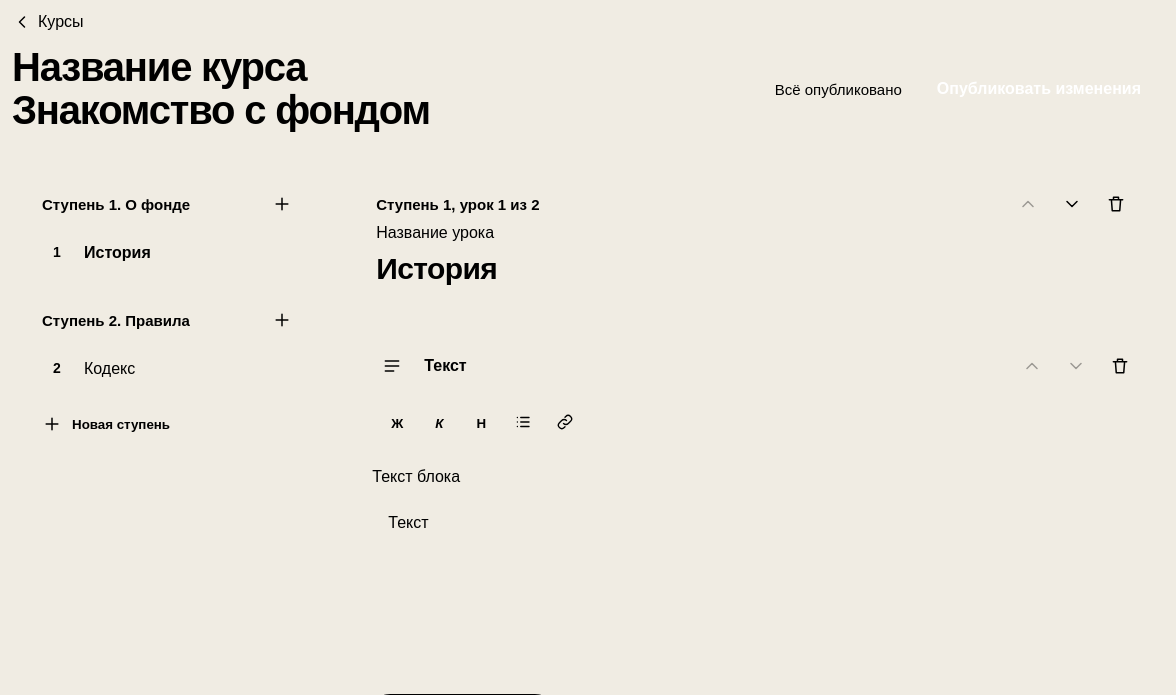
Test: Курсы › adds a lesson to an earlier stage and moves it there with one structure command
What coordinates should you click on to do the following:
click the button named "Добавить урок в ступень «О фонде»"
I would click on:
 (282, 204)
Its box is [266, 186, 298, 222].
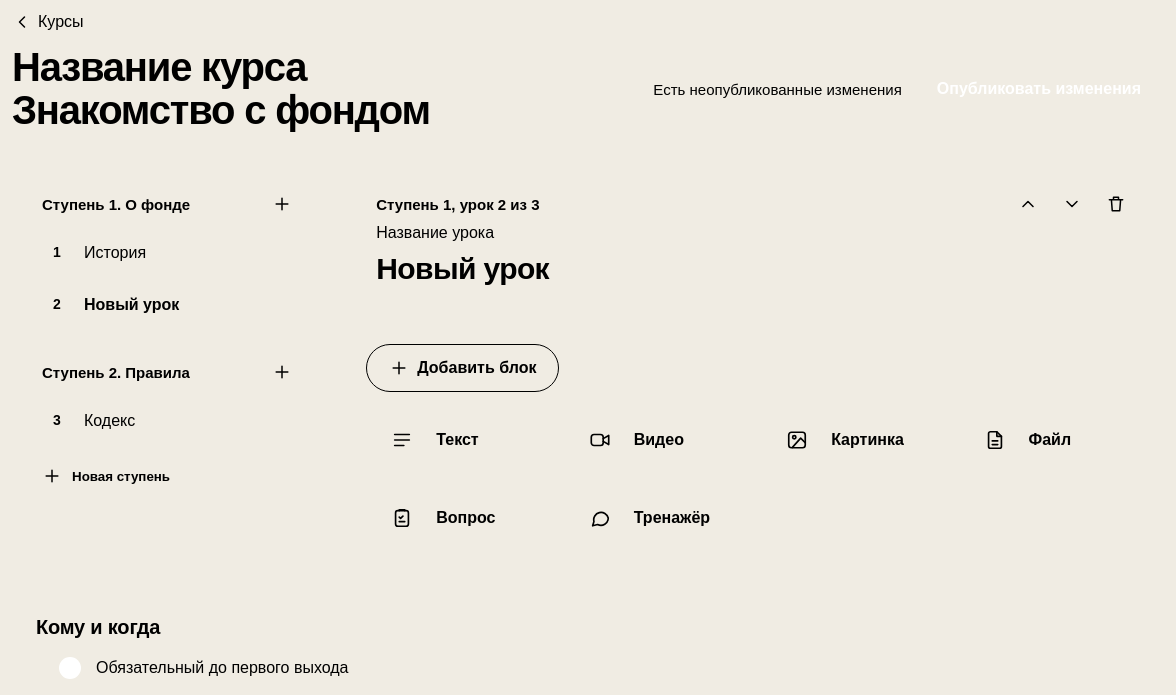
Result: the text "Ступень 1, урок 2 из 3" is shown at [376, 196, 540, 213]
Result: the button "Картинка" is shown at [761, 406, 948, 474]
